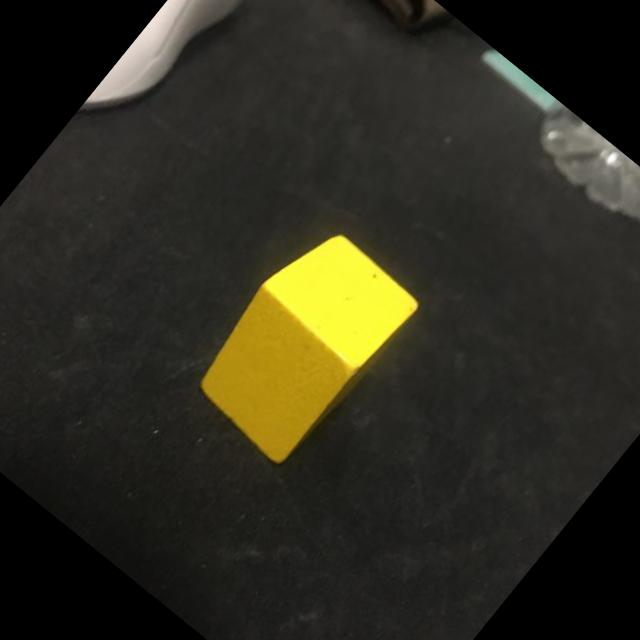yellow: (180, 215, 423, 470)
